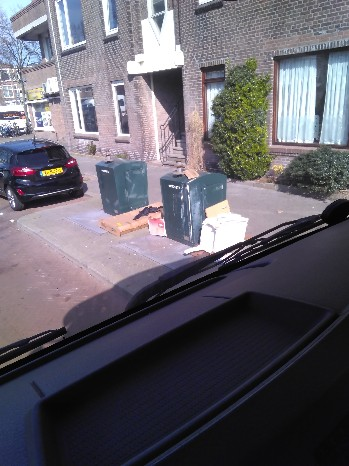Container: (157, 166, 203, 240), (103, 159, 148, 207)
Papier: (94, 201, 161, 228)
Rest: (202, 209, 248, 257)
Voertuig: (2, 137, 77, 200)
